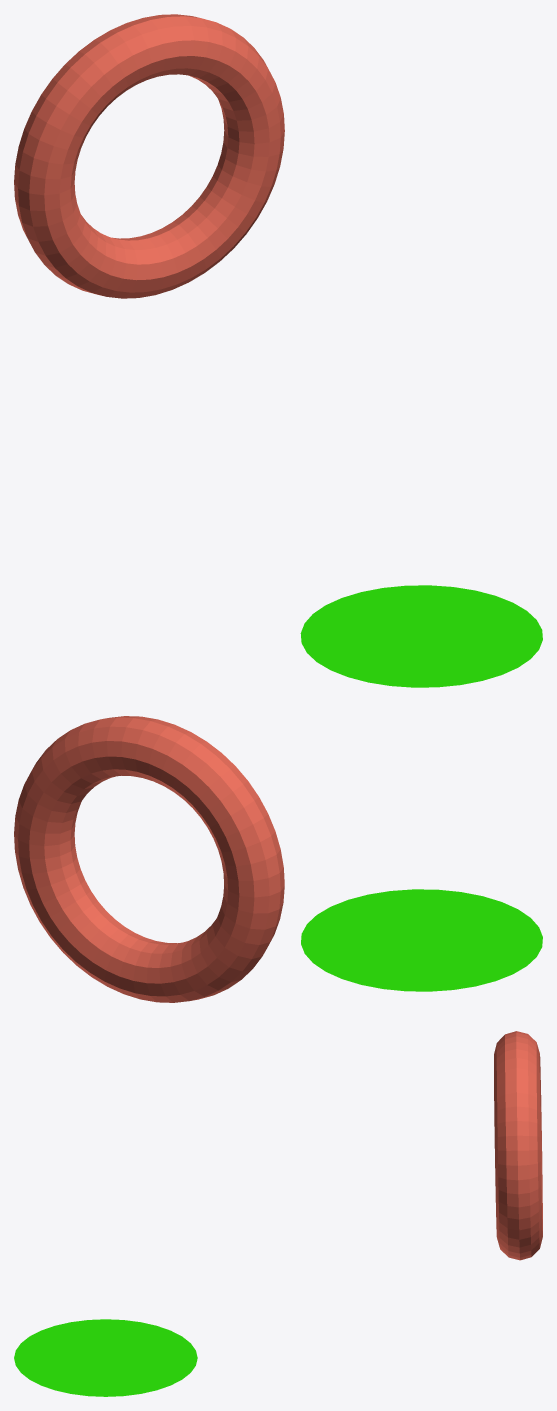
The model's file is centerring.glb.
3 views of the same model, one above another, from view 1: azimuth 30°, elevation 25°; view 2: azimuth 150°, elevation 25°; view 3: azimuth 270°, elevation 25° (orthographic). The views are drawn at different scales.
Parts seen in each view (by area): view 1: Torus, Circle; view 2: Torus, Circle; view 3: Circle, Torus.
Part boxes in pixels (x1,y1,x2,y2): Torus: (14, 14, 284, 298); Circle: (300, 585, 542, 687); Torus: (14, 716, 284, 1002); Circle: (301, 889, 542, 991); Circle: (14, 1319, 197, 1396); Torus: (494, 1031, 542, 1260).
Size of the model in its own units: 2.5 by 3.8 by 5.76.
